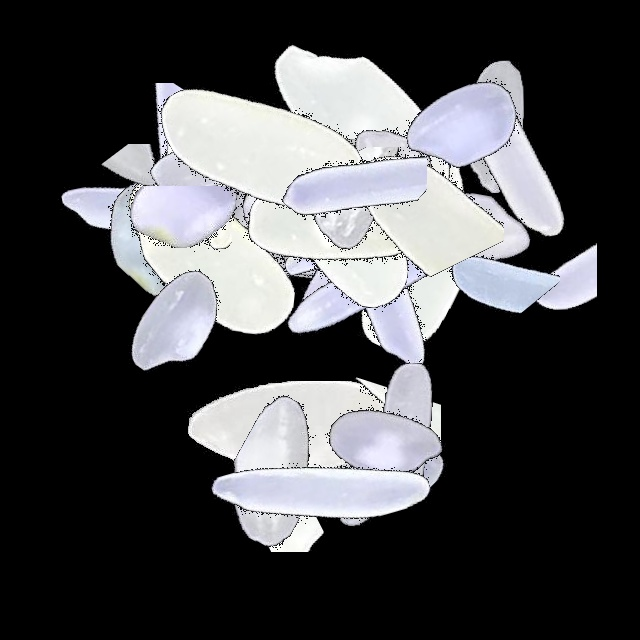Broken: (163, 381, 413, 554), (268, 372, 437, 622), (128, 222, 295, 472), (230, 364, 393, 614), (265, 32, 427, 282), (24, 83, 274, 244), (390, 111, 640, 271), (346, 65, 504, 315), (260, 147, 510, 299), (409, 120, 560, 370), (300, 22, 440, 272), (105, 55, 245, 305), (114, 130, 254, 380), (344, 44, 483, 294), (159, 397, 409, 528), (281, 97, 398, 347), (279, 110, 529, 227), (118, 440, 368, 552), (120, 55, 232, 305), (21, 144, 271, 252), (340, 316, 441, 566), (497, 126, 597, 376), (374, 67, 463, 317), (297, 51, 385, 301), (493, 138, 570, 388)
Full: (369, 0, 619, 250), (36, 85, 286, 335), (26, 112, 276, 362), (125, 123, 375, 373), (177, 125, 427, 375), (264, 327, 514, 577), (237, 47, 487, 297), (172, 69, 422, 319), (337, 103, 587, 353), (84, 133, 334, 383), (298, 130, 548, 380), (259, 144, 509, 394), (212, 95, 462, 345), (282, 310, 532, 560), (235, 88, 485, 338), (232, 108, 482, 358), (237, 0, 487, 250), (255, 150, 505, 400), (213, 105, 463, 355), (258, 318, 508, 568), (216, 95, 466, 345), (197, 363, 447, 613), (276, 62, 526, 312), (337, 0, 587, 250), (133, 15, 383, 265)
